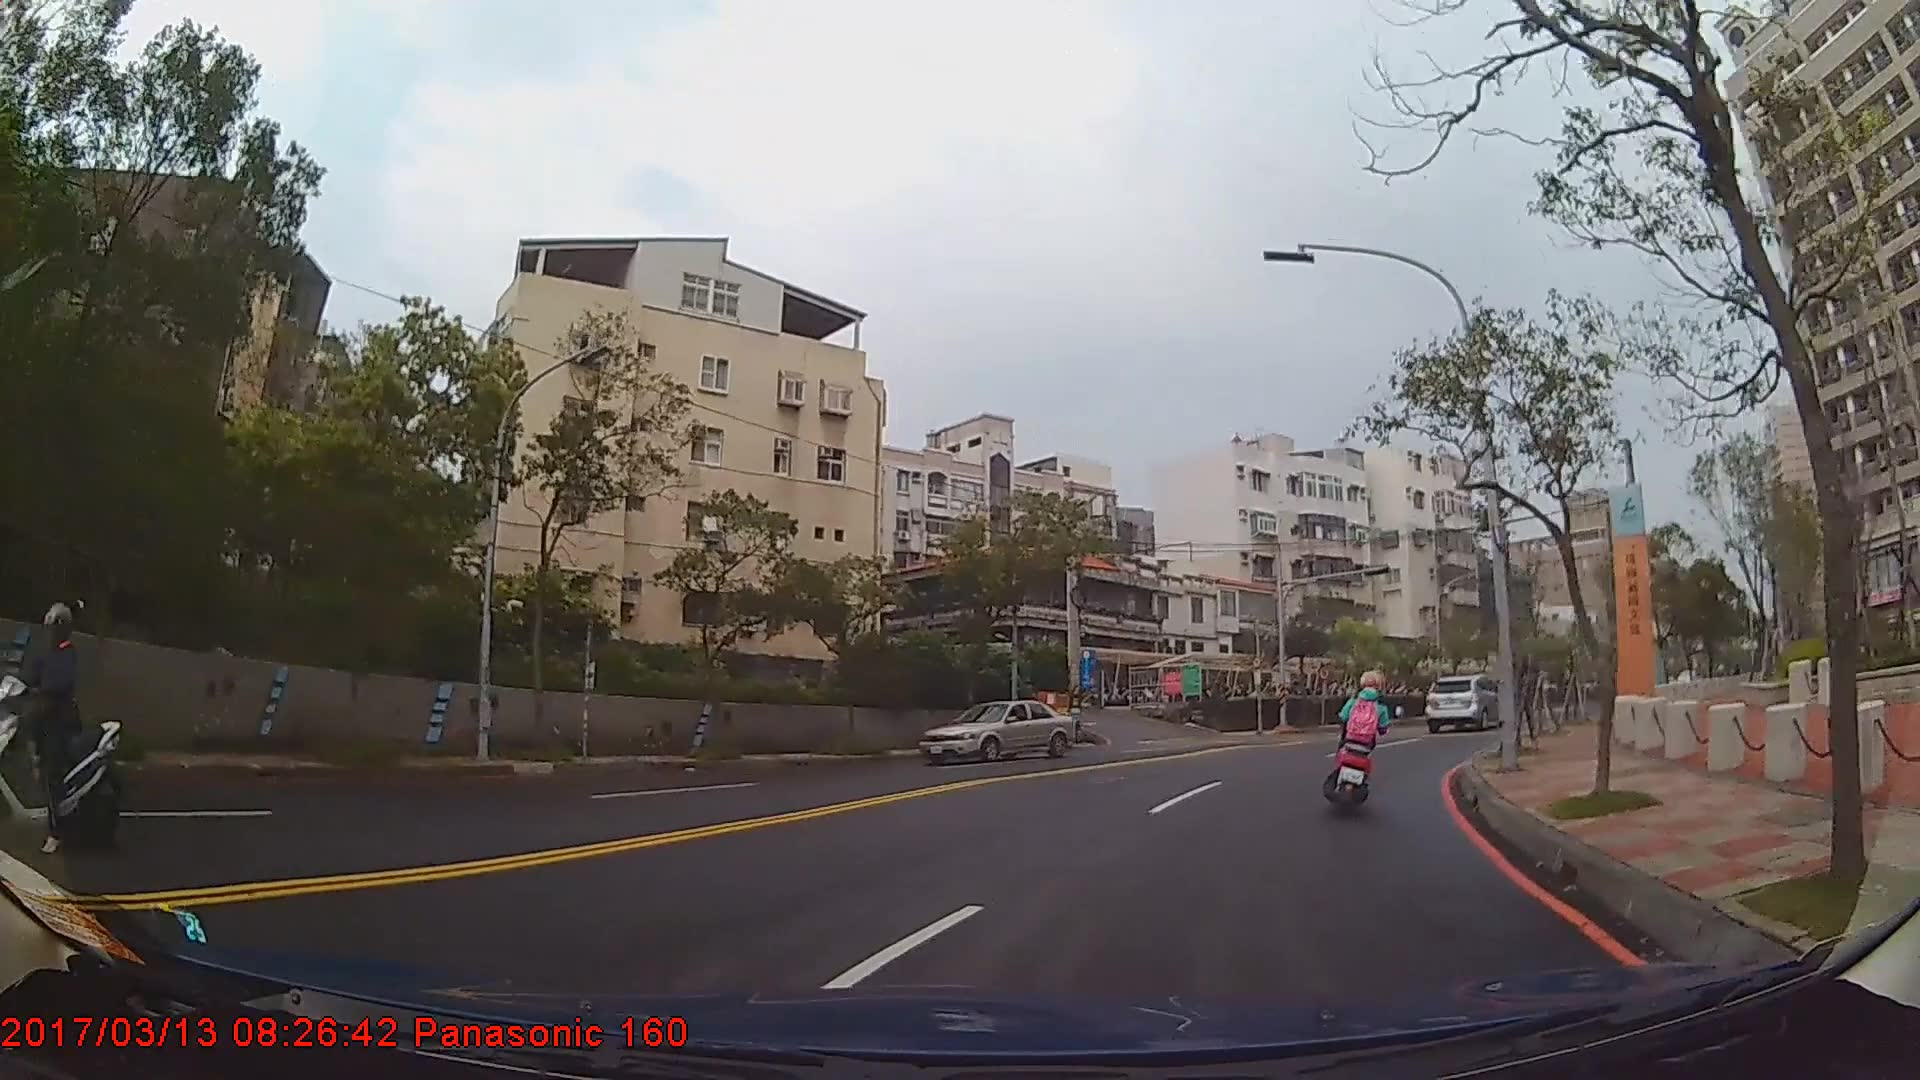rider: (1, 598, 123, 859), (1330, 670, 1393, 803)
vehicle: (917, 700, 1075, 763), (1423, 674, 1503, 734)
